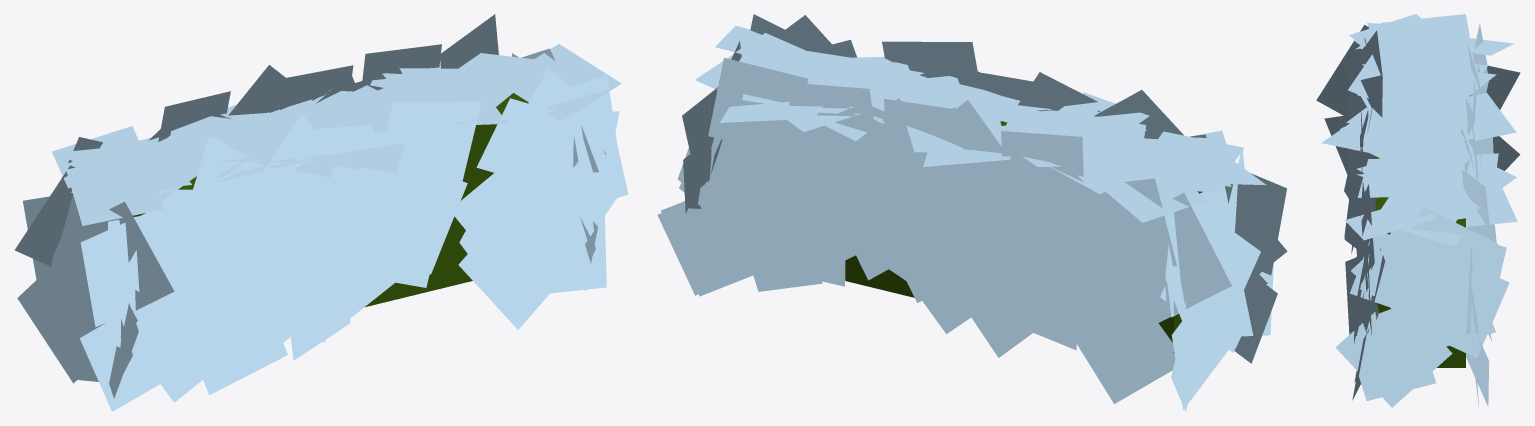
The model's file is hedge_long.gltf.
3 renders of one model, left to right at view 1: azimuth 30°, elevation 25°; view 2: azimuth 150°, elevation 25°; view 3: azimuth 270°, elevation 25°, orthographic. The views are drawn at different scales.
Visible parts, largest first — view 1: hedge_long_Leaf_Hedge, hedge_long_Core_Hedge; view 2: hedge_long_Leaf_Hedge, hedge_long_Core_Hedge; view 3: hedge_long_Leaf_Hedge, hedge_long_Core_Hedge.
Boxes of the visible parts, left/top/right/bottom form: hedge_long_Leaf_Hedge: left=15, top=14, right=628, bottom=411; hedge_long_Core_Hedge: left=133, top=93, right=528, bottom=306; hedge_long_Leaf_Hedge: left=657, top=14, right=1287, bottom=411; hedge_long_Core_Hedge: left=845, top=121, right=1226, bottom=352; hedge_long_Leaf_Hedge: left=1316, top=14, right=1520, bottom=410; hedge_long_Core_Hedge: left=1375, top=156, right=1465, bottom=367.
Size of the model in its own units: 4.91 by 2.21 by 1.77.
